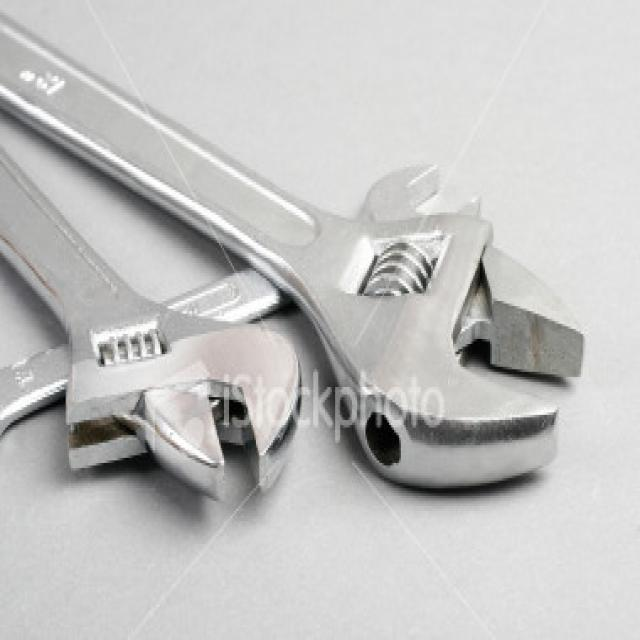wrench: (11, 0, 588, 493), (0, 156, 301, 503)
